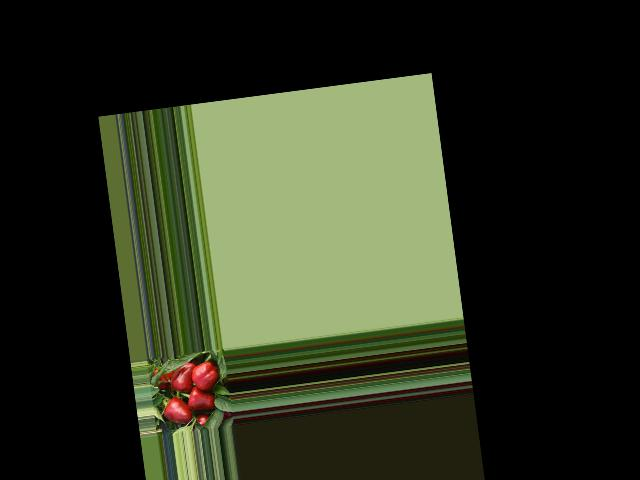bell_pepper: (189, 358, 220, 398)
